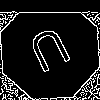U: (25, 25, 78, 83)
